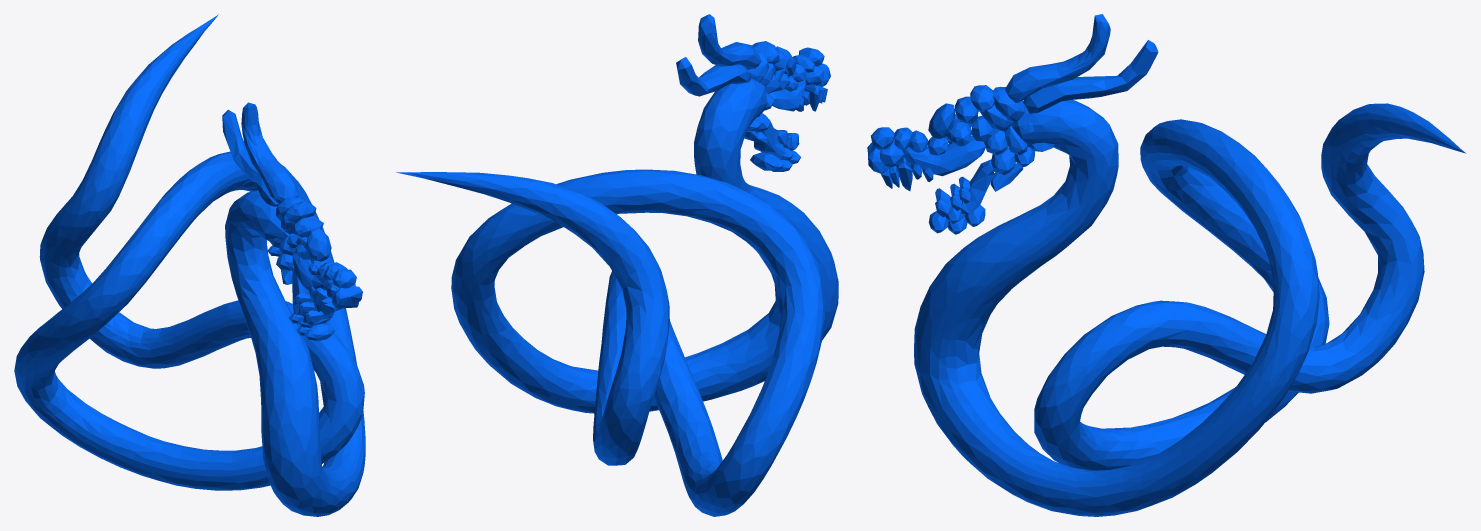
File: seiryu_v01ar.glb
The picture shows the model from 3 angles, left to right: view 1: azimuth 30°, elevation 25°; view 2: azimuth 150°, elevation 25°; view 3: azimuth 270°, elevation 25°; orthographic projection. The views are drawn at different scales.
Visible parts, largest first — view 1: 青龍テスト; view 2: 青龍テスト; view 3: 青龍テスト.
Boxes of the visible parts, x1,y1,x2,y2 form: 青龍テスト: [14, 14, 365, 516]; 青龍テスト: [396, 14, 838, 516]; 青龍テスト: [867, 14, 1465, 516].
Size of the model in its own units: 9.19 by 11.4 by 13.38.
1 material, 1 textured.
